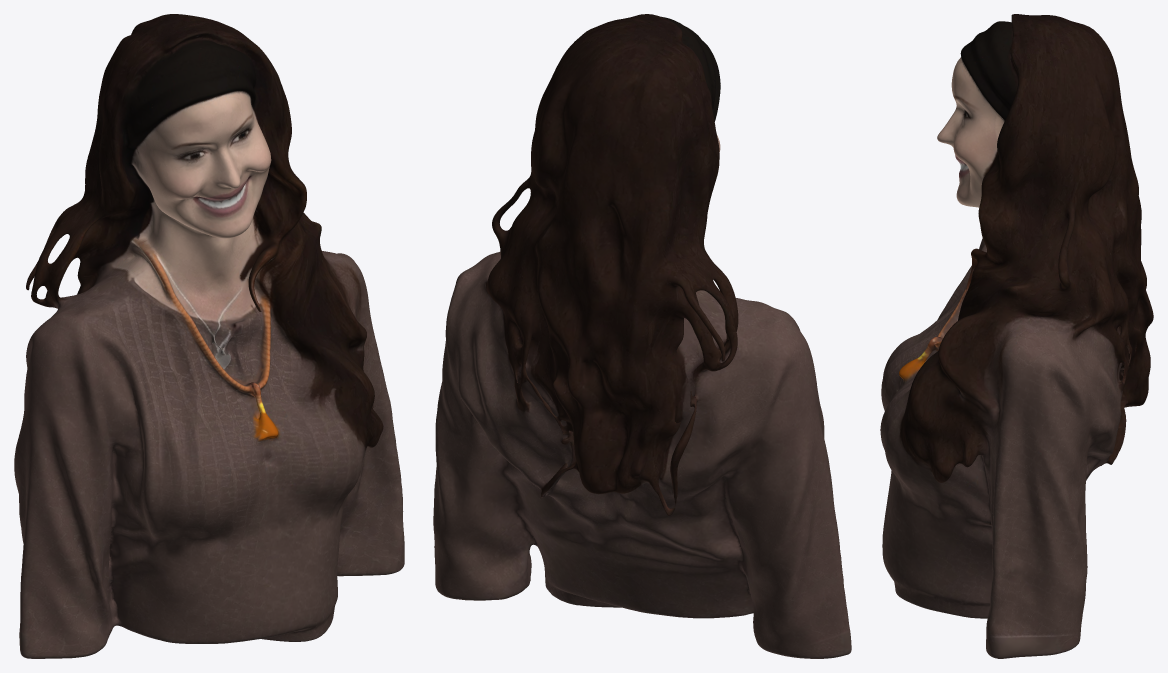
File: Meshy_AI_Radiant_Smile_Portrait_compatible.glb
The picture shows the model from 3 angles, left to right: view 1: azimuth 30°, elevation 25°; view 2: azimuth 150°, elevation 25°; view 3: azimuth 270°, elevation 25°; orthographic projection. The views are drawn at different scales.
Bounding box in the file's own units: 1.32 × 1.9 × 0.8562.
Materials: 1 (1 with a texture image).
